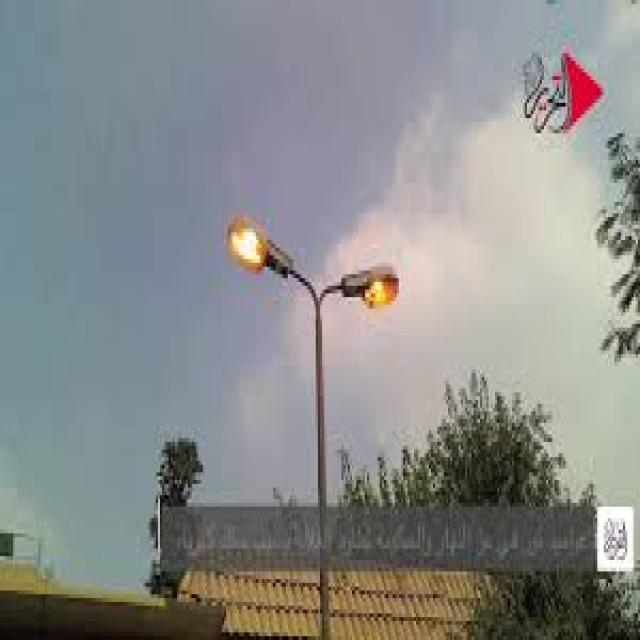Street Light: (228, 213, 399, 640)
